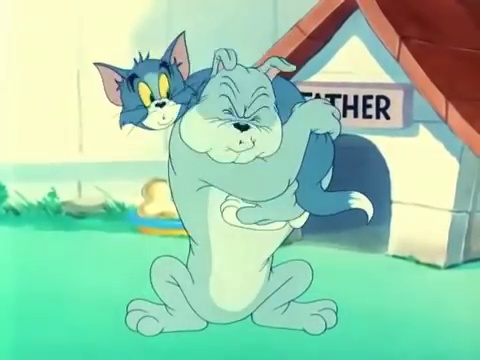tom: (92, 29, 193, 138)
